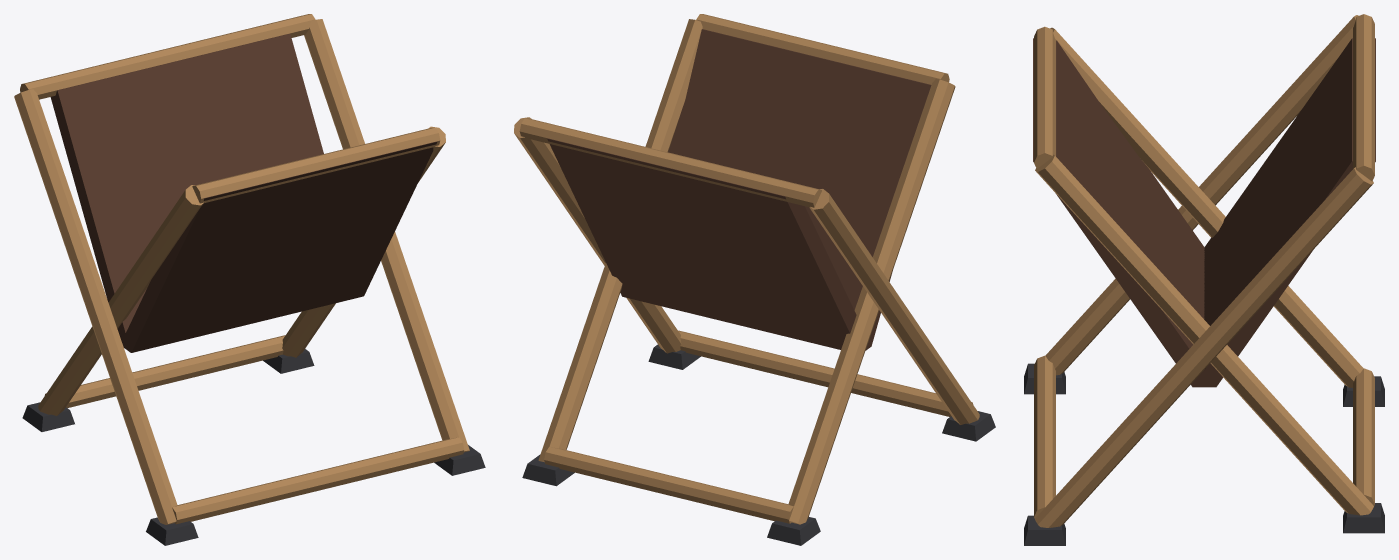
The model's file is FN_Rack_Magazine.obj.
3 renders of one model, left to right at view 1: azimuth 30°, elevation 25°; view 2: azimuth 150°, elevation 25°; view 3: azimuth 270°, elevation 25°, orthographic. The views are drawn at different scales.
Parts seen in each view (by area): view 1: FN_Rack_Magazine; view 2: FN_Rack_Magazine; view 3: FN_Rack_Magazine.
Part boxes in pixels (bbox=[...]): FN_Rack_Magazine: bbox=[14, 14, 485, 545]; FN_Rack_Magazine: bbox=[514, 14, 995, 545]; FN_Rack_Magazine: bbox=[1024, 14, 1384, 545].
Bounding box in the file's own units: 0.402 × 0.411 × 0.362.
1 material, 1 textured.
